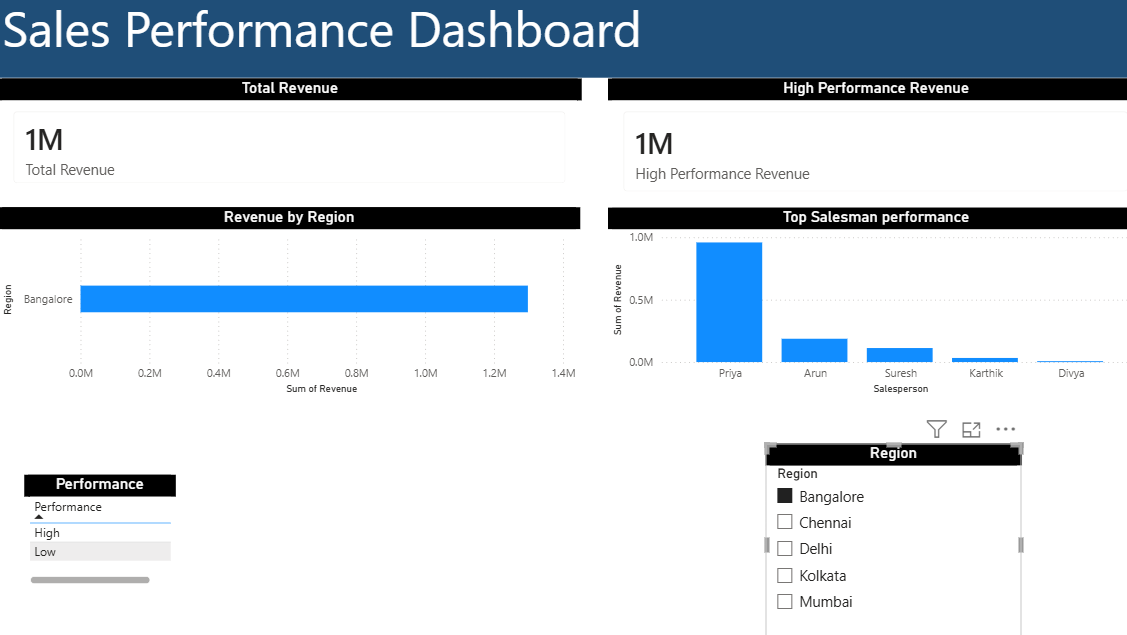

The page's visual inventory and layout, read from the dashboard file:
{"tool":"powerbi","page":{"name":"Page 1","canvas":[1280,720],"ordinal":0},"visuals":[{"type":"clusteredBarChart","title":"Revenue by Region","fields":{"Y":["Sum(Sales Data.Revenue)"],"Category":["Sales Data.Region"]},"box":[0,237.4,639.5,209.9],"z":0},{"type":"clusteredColumnChart","title":"Top Salesman performance","fields":{"Y":["Sum(Sales Data.Revenue)"],"Category":["Sales Data.Salesperson"]},"box":[669.6,237.4,588.7,209.9],"z":1000},{"type":"slicer","title":"Region","fields":{"Values":["Sales Data.Region"]},"box":[842.5,496.7,281.3,223.7],"z":2000},{"type":"cardVisual","title":"Total Revenue","fields":{"Data":["Sales Data.Total Revenue"]},"box":[0,96.1,640.8,133.1],"z":3000},{"type":"tableEx","title":"Performance","fields":{"Values":["Sales Data.Performance"]},"box":[28.8,531,166,124.9],"z":4000},{"type":"cardVisual","title":"High Performance Revenue","fields":{"Data":["Sales Data.High Performance Revenue"]},"box":[669.6,96.1,588.7,141.3],"z":5000},{"type":"textbox","box":[0,0,1280.3,95.4],"z":6000}]}

Visuals, with their boxes in screenshot pixels (x1, y1, x2, y2), scaled from the page's 1280x720 canvas onto the 1127x635 screenshot:
"Revenue by Region" clusteredBarChart: region(0, 209, 563, 394)
"Top Salesman performance" clusteredColumnChart: region(590, 209, 1108, 394)
"Region" slicer: region(742, 438, 989, 634)
"Total Revenue" cardVisual: region(0, 85, 564, 202)
"Performance" tableEx: region(25, 468, 172, 578)
"High Performance Revenue" cardVisual: region(590, 85, 1108, 209)
textbox: region(0, 0, 1126, 84)
